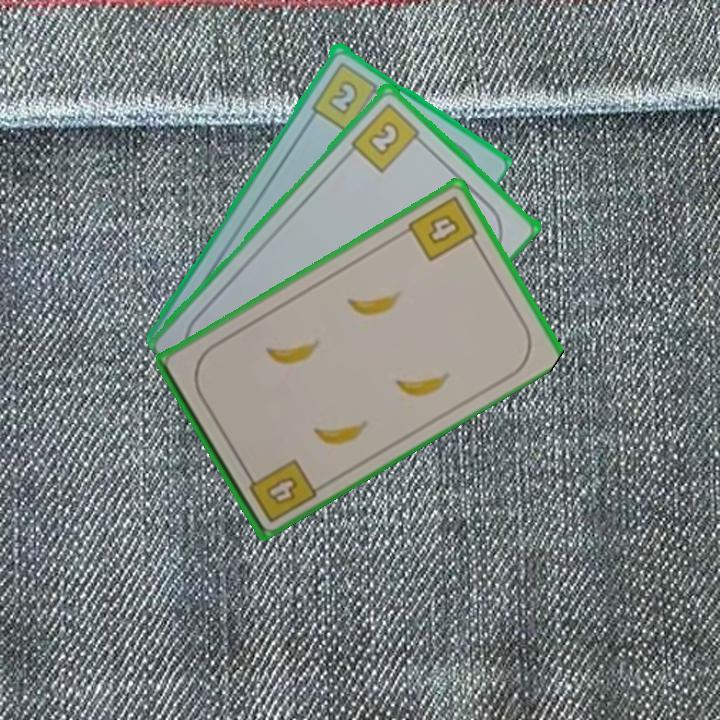2b: (347, 99, 428, 175), (308, 57, 387, 134)
4b: (404, 192, 483, 264), (241, 455, 319, 525)
